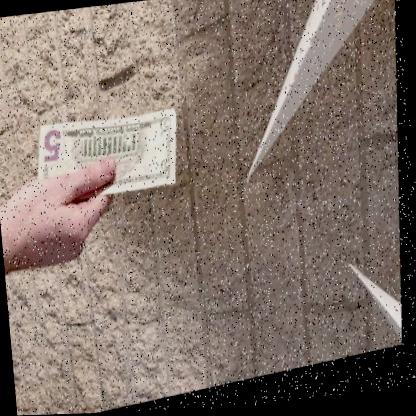five-back: (31, 100, 186, 217)
